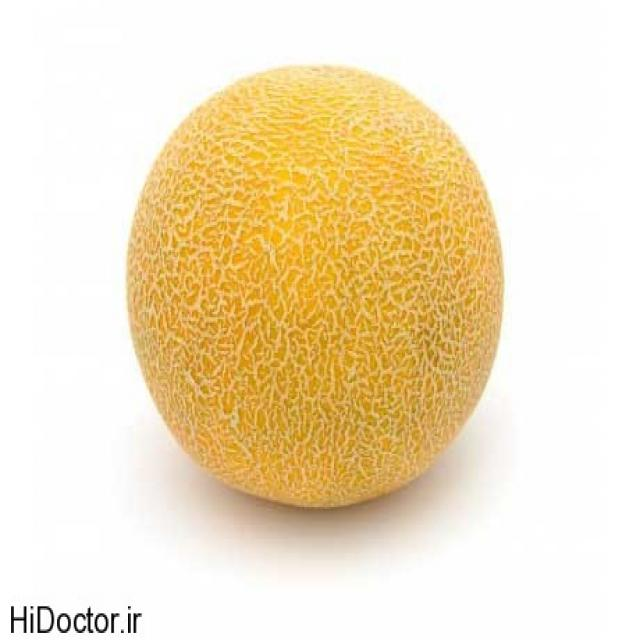melon: (121, 60, 509, 514)
